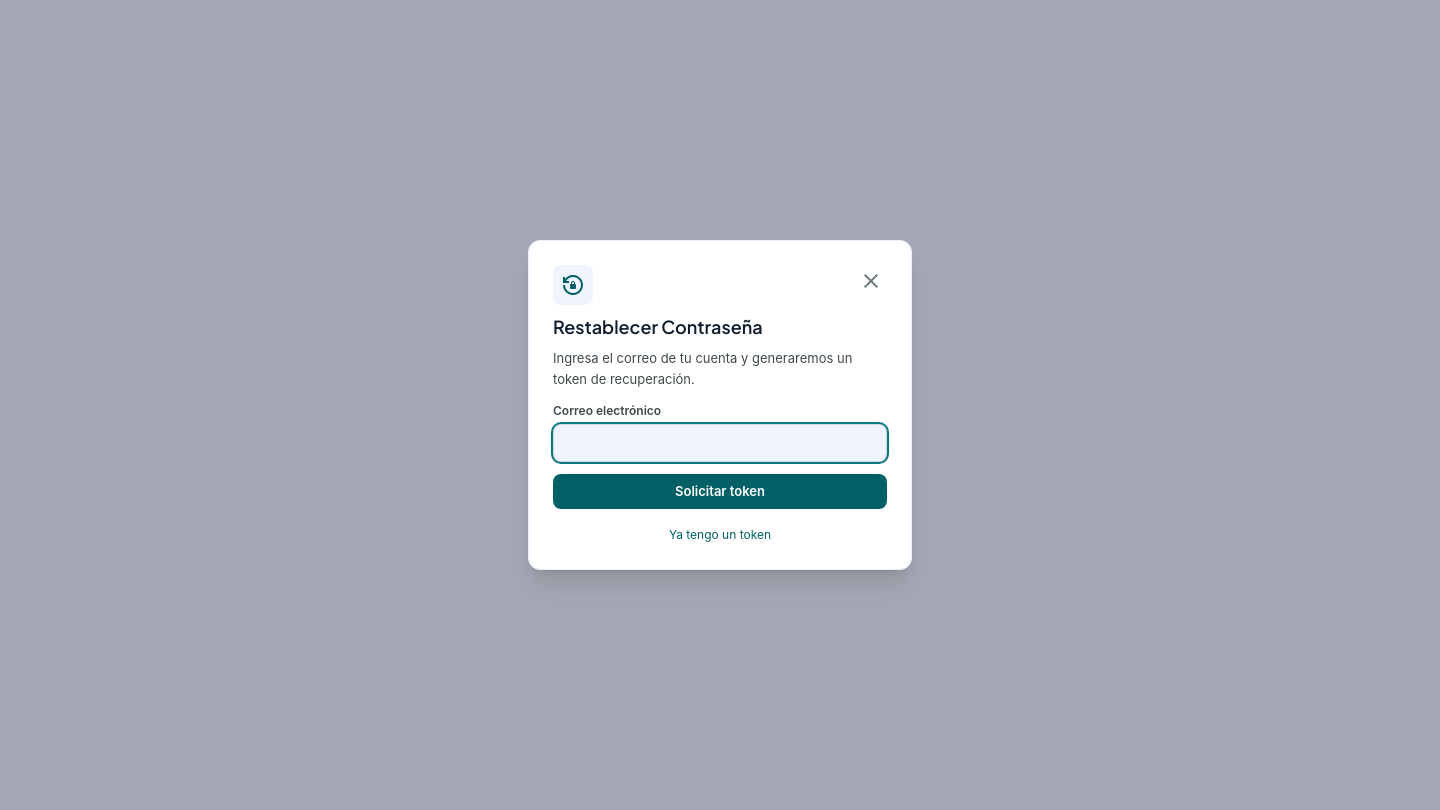
Scenario: PasswordRecoveryModal (HU-003) › no envía la confirmación si las contraseñas no coinciden
The width and height of the screenshot is (1440, 810).
Click the button "Ya tengo un token".
click(720, 535)  # box x1=553 y1=526 x2=887 y2=544
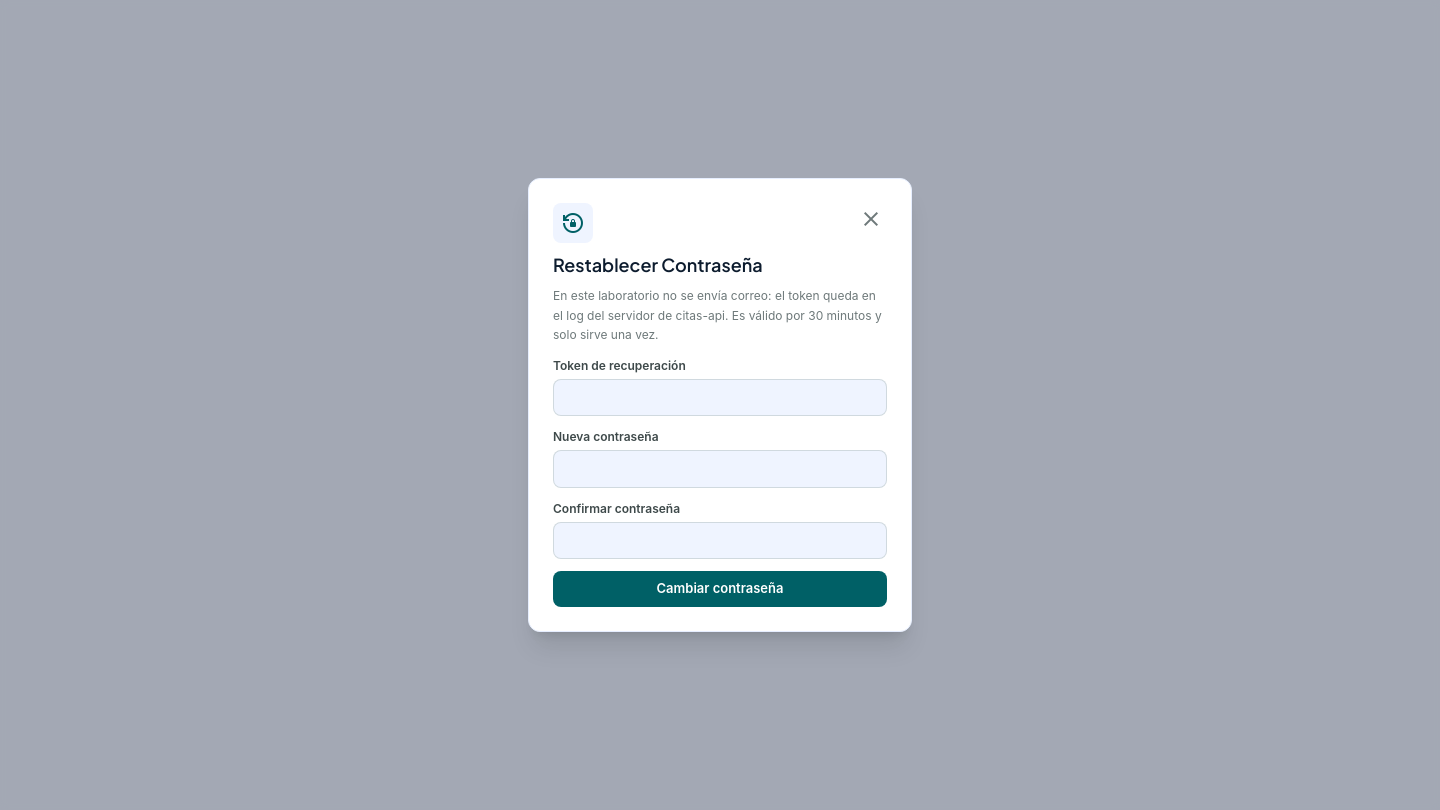
Type "abc123" into the field labelled "Token de recuperación".
click(720, 398); type("abc123")  # box x1=553 y1=379 x2=887 y2=416
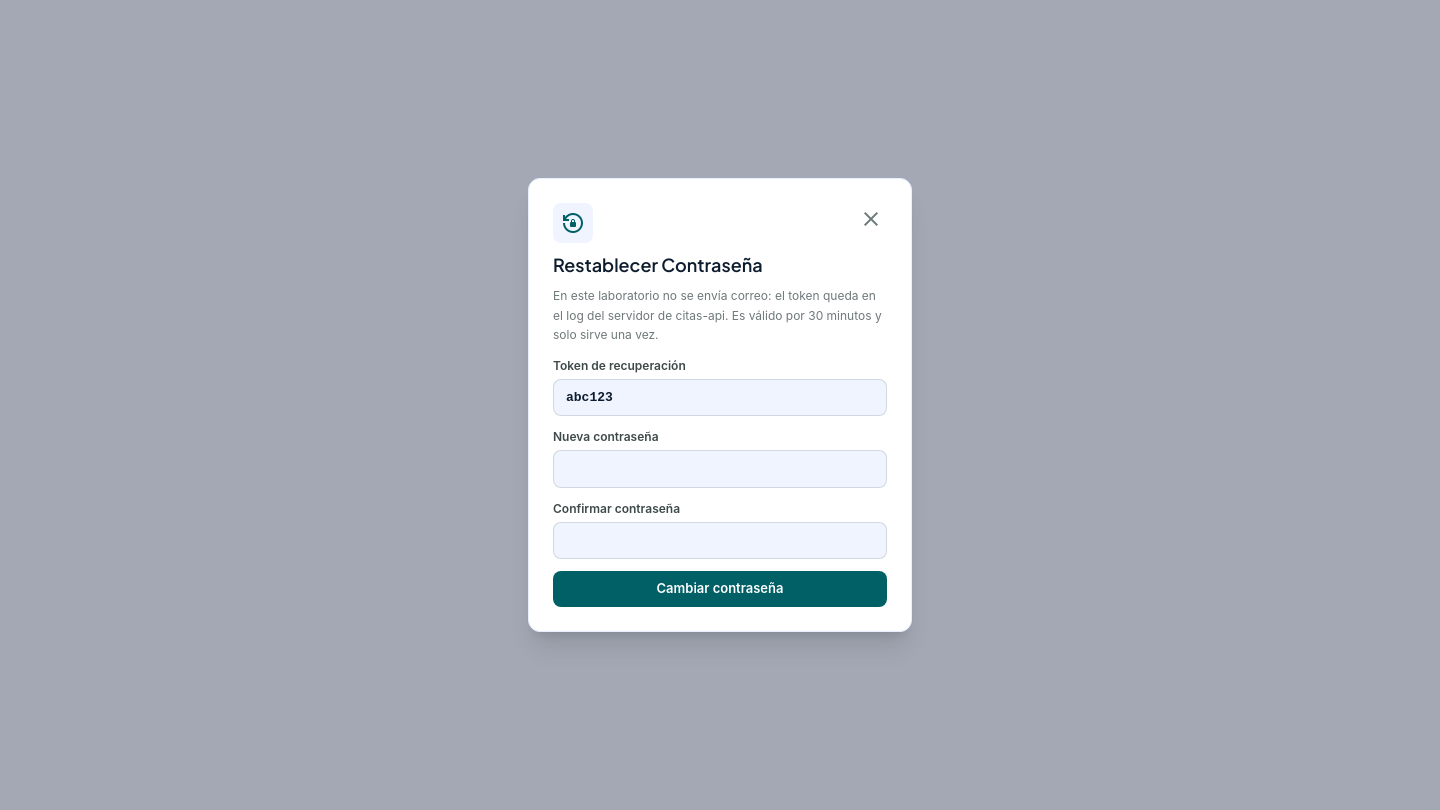
Type "NuevaClave2026*" into the password field labelled "Nueva contraseña".
click(720, 469); type("NuevaClave2026*")  # box x1=553 y1=450 x2=887 y2=488
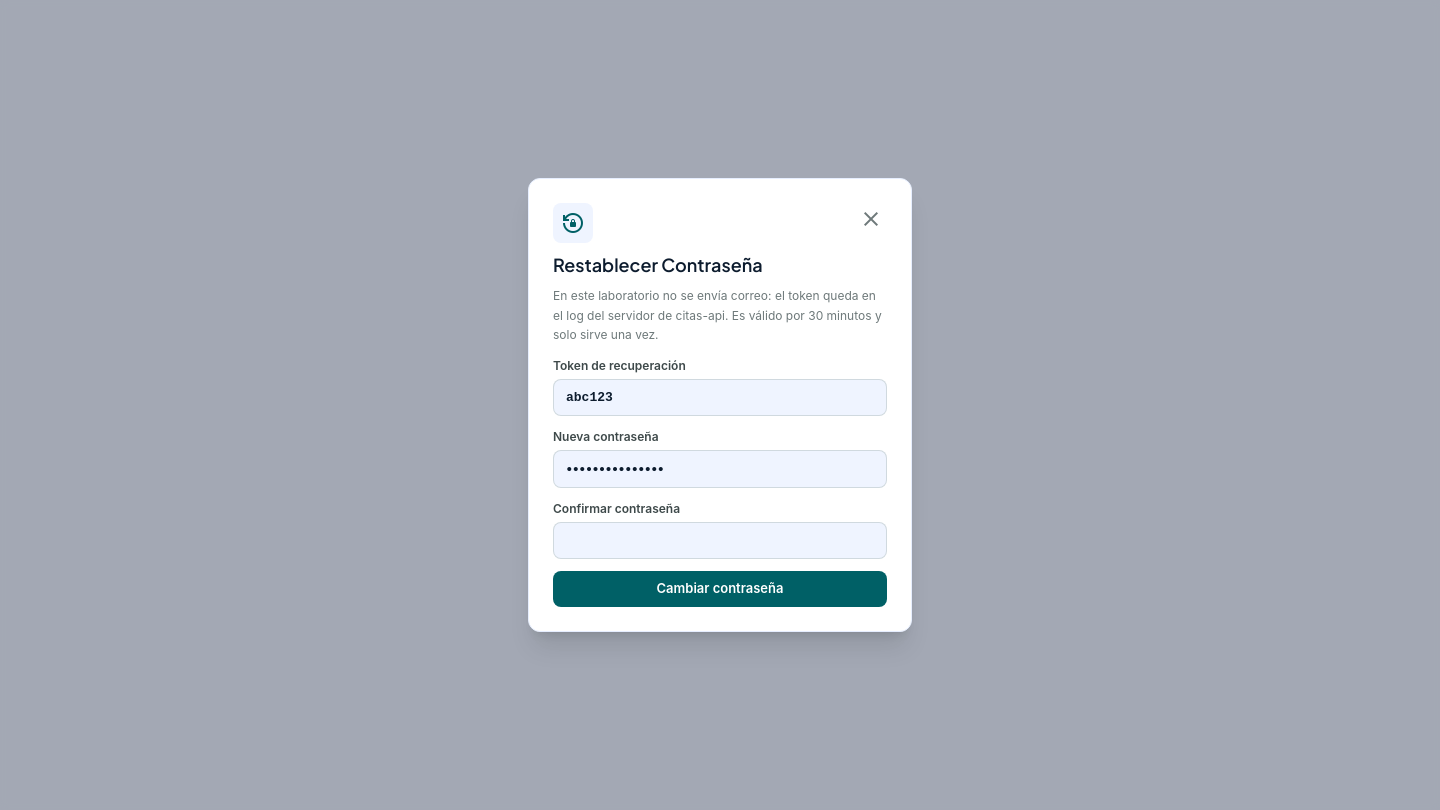
Type "Distinta2026*" into the password field labelled "Confirmar contraseña".
click(720, 541); type("Distinta2026*")  # box x1=553 y1=522 x2=887 y2=559
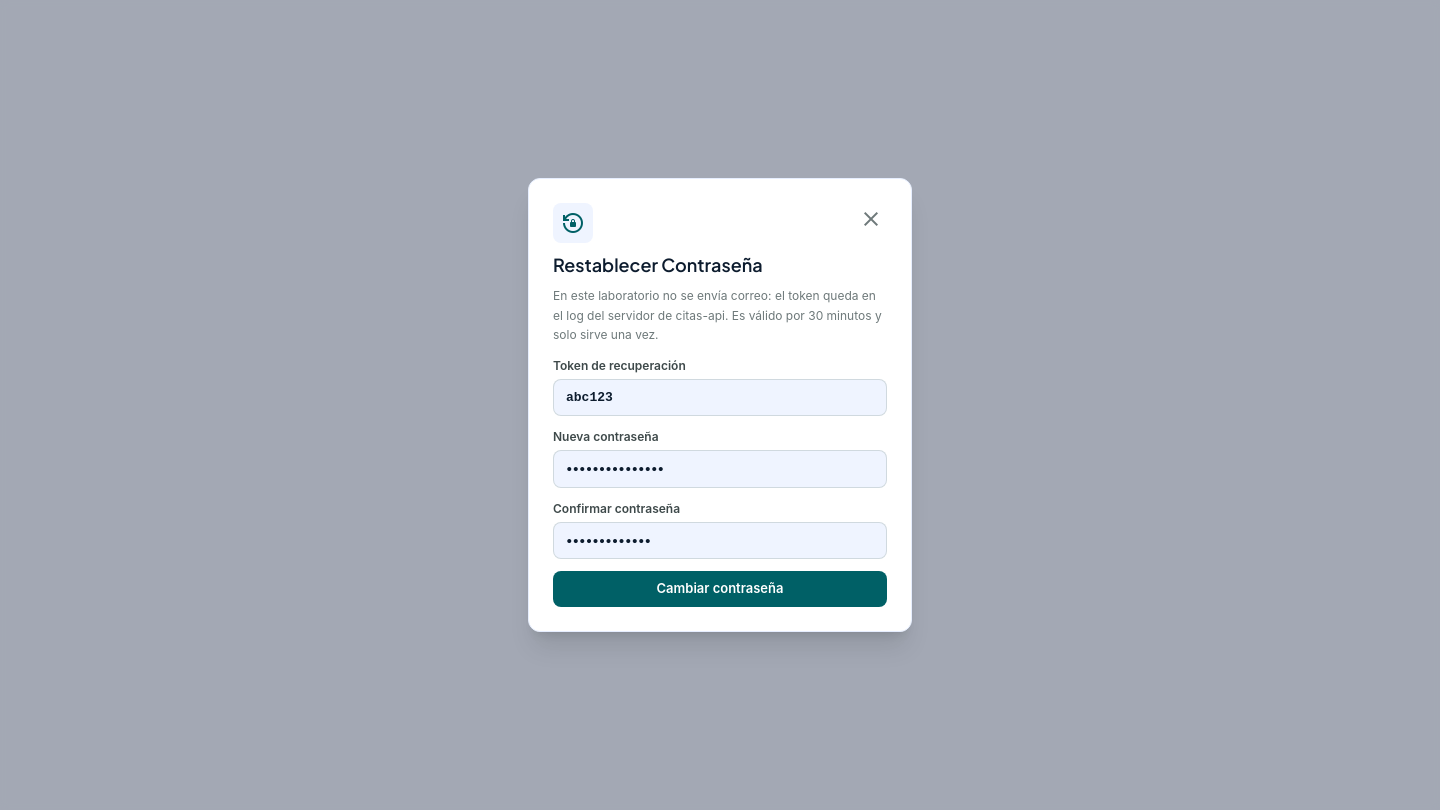
Click the button "Cambiar contraseña".
click(720, 589)  # box x1=553 y1=571 x2=887 y2=607
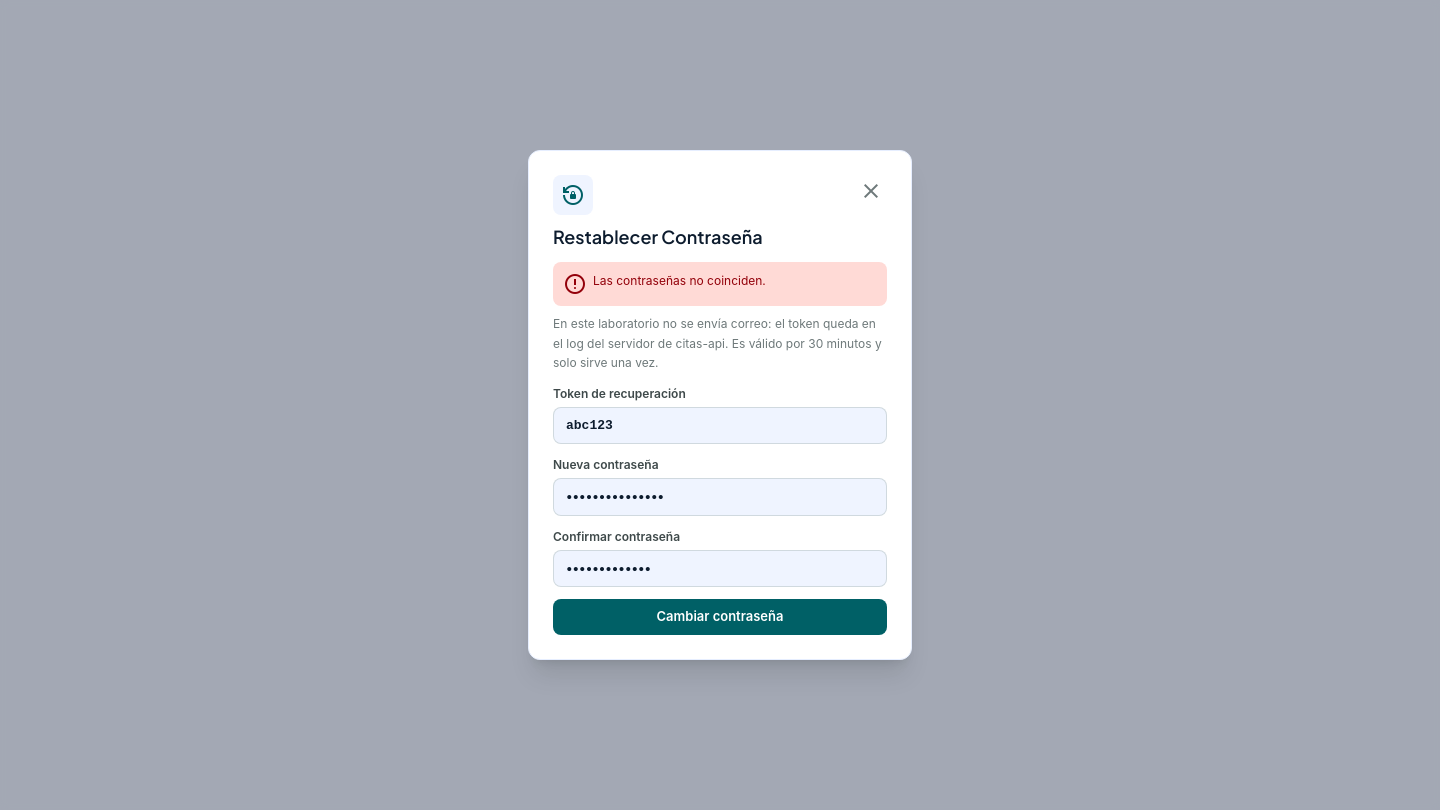
Now the message shows "no coinciden", box x1=593 y1=273 x2=766 y2=288
